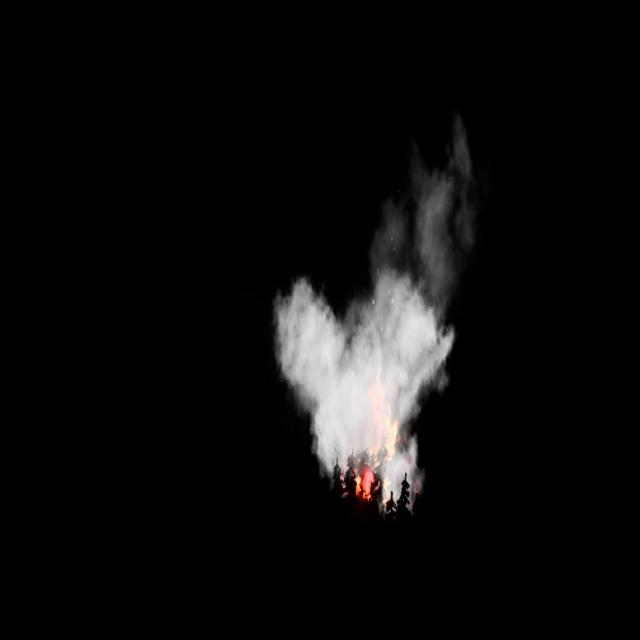fire: (342, 375, 414, 512)
smoke: (274, 125, 474, 508)
